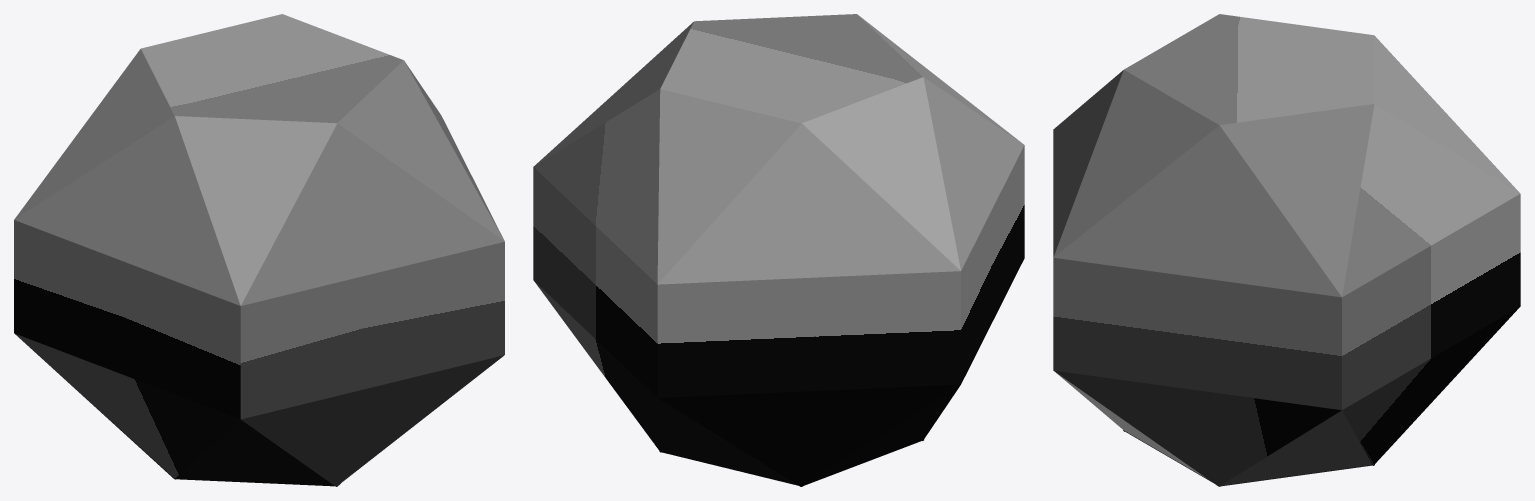
Rendered from Fuel.gltf.
3 views of the same model, side by side, from view 1: azimuth 30°, elevation 25°; view 2: azimuth 150°, elevation 25°; view 3: azimuth 270°, elevation 25° (orthographic).
Parts seen in each view (by area): view 1: 球.002; view 2: 球.002; view 3: 球.002.
Boxes of the visible parts, <box> form: 球.002: <box>14,14,504,486</box>; 球.002: <box>533,14,1024,486</box>; 球.002: <box>1053,14,1520,486</box>.
Size of the model in its own units: 0.4942 by 0.4017 by 0.47.
1 material, 1 textured.
